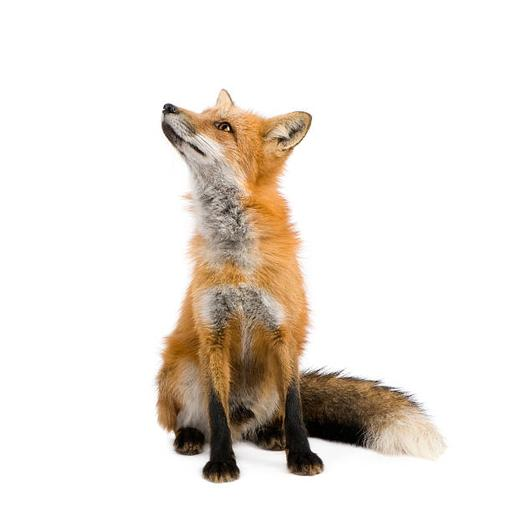Fox: (149, 86, 454, 482)
